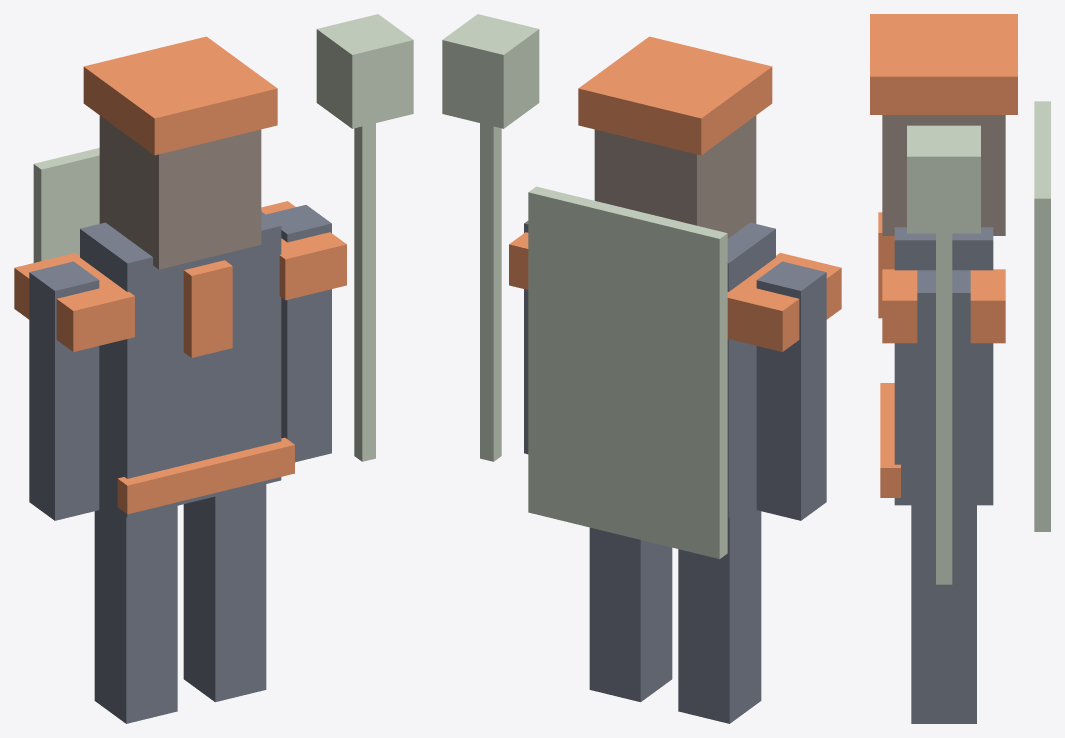
File: 18_lio_gearmantle_courier_near_missile.glb
3 renders of one model, left to right at view 1: azimuth 30°, elevation 25°; view 2: azimuth 150°, elevation 25°; view 3: azimuth 270°, elevation 25°, orthographic. The views are drawn at different scales.
Visible parts, largest first — view 1: Lio Gearmantle, Courier near Missile; view 2: Lio Gearmantle, Courier near Missile; view 3: Lio Gearmantle, Courier near Missile.
Part boxes in pixels (bbox=[...]): Lio Gearmantle, Courier near Missile: bbox=[14, 14, 413, 723]; Lio Gearmantle, Courier near Missile: bbox=[442, 14, 841, 723]; Lio Gearmantle, Courier near Missile: bbox=[870, 14, 1050, 723].
Bounding box in the file's own units: 0.9955 × 1.66 × 0.4232.
